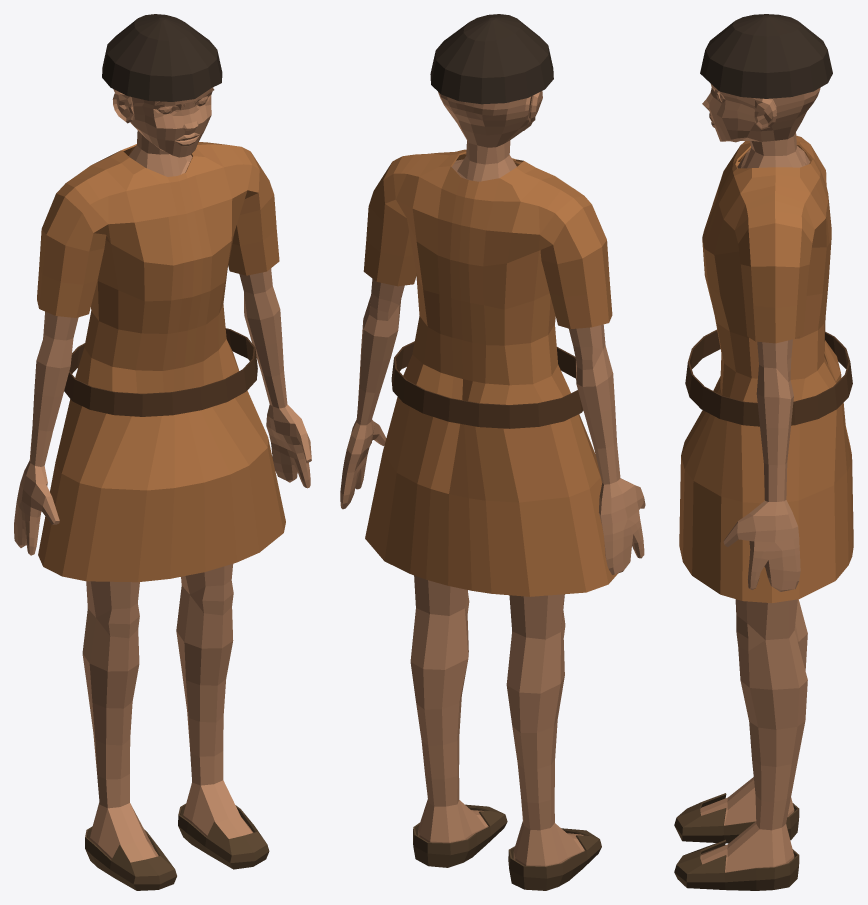
The model's file is merchant.glb.
The picture shows the model from 3 angles, left to right: view 1: azimuth 30°, elevation 25°; view 2: azimuth 150°, elevation 25°; view 3: azimuth 270°, elevation 25°; orthographic projection. The views are drawn at different scales.
Parts seen in each view (by area): view 1: merchant_RomanTunic, merchant_CharacterBase, merchant_HairCap, merchant_LeatherBelt, merchant_RomanSandals; view 2: merchant_RomanTunic, merchant_CharacterBase, merchant_HairCap, merchant_LeatherBelt, merchant_RomanSandals; view 3: merchant_RomanTunic, merchant_CharacterBase, merchant_HairCap, merchant_RomanSandals, merchant_LeatherBelt.
Part boxes in pixels (x1,y1,x2,y2): merchant_RomanTunic: (37,142,285,582); merchant_CharacterBase: (14,87,311,862); merchant_HairCap: (102,14,222,101); merchant_LeatherBelt: (64,328,257,416); merchant_RomanSandals: (85,803,269,890); merchant_RomanTunic: (363,149,617,596); merchant_CharacterBase: (340,91,645,866); merchant_HairCap: (430,14,553,104); merchant_LeatherBelt: (391,341,583,428); merchant_RomanSandals: (413,804,601,890); merchant_RomanTunic: (679,135,853,603); merchant_CharacterBase: (700,84,820,872); merchant_HairCap: (700,14,832,98); merchant_RomanSandals: (674,793,799,890); merchant_LeatherBelt: (685,329,852,426).
Bounding box in the file's own units: 0.6533 × 1.84 × 0.3559.
